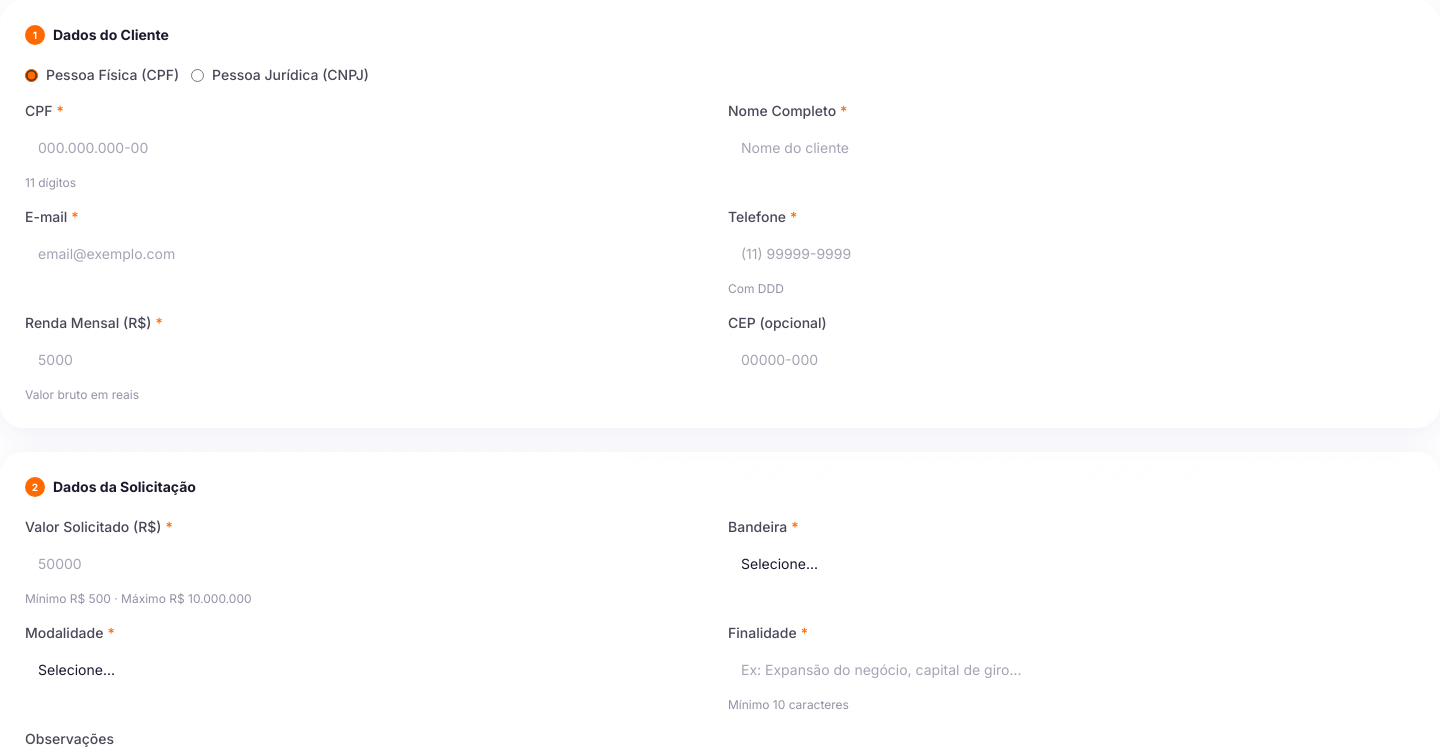
Test: CreditRequestForm › CNPJ masking › applies CNPJ mask as the user types
The image size is (1440, 756).
Click the radio button labelled "Pessoa Jurídica (CNPJ)".
click(198, 75)  # box [191, 68, 204, 82]
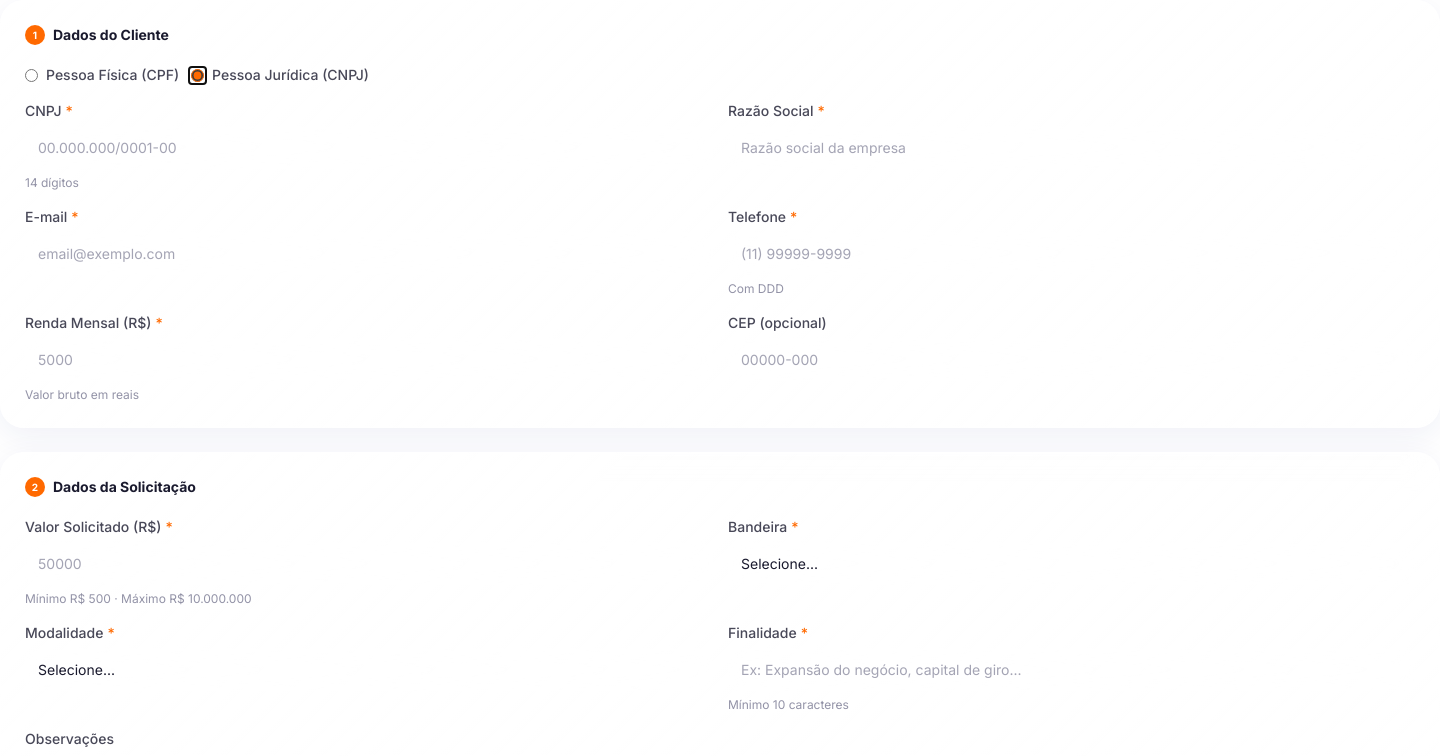
Type "11222333000181" into the field with placeholder "00.000.000/0001-00".
click(368, 148); type("11222333000181")  # box [25, 127, 712, 169]
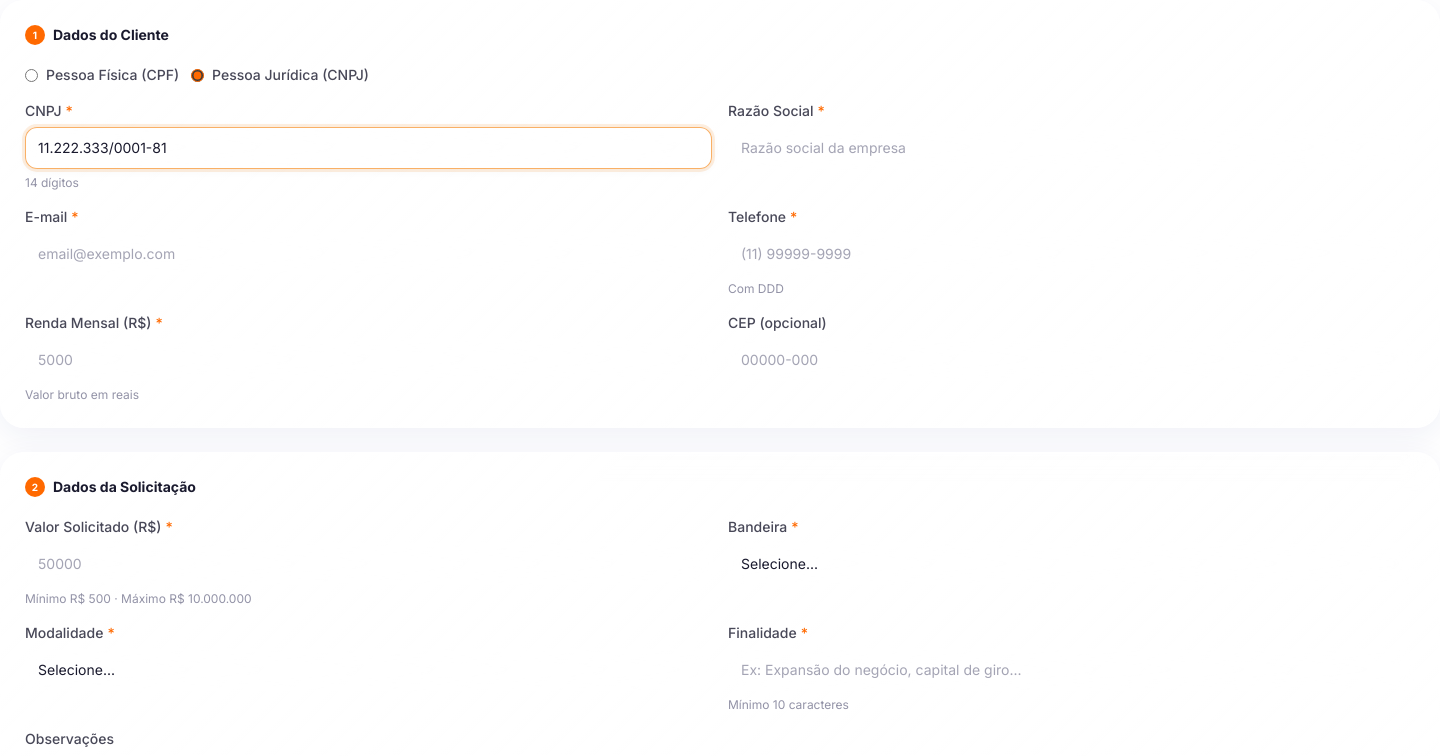
Expected: the field with placeholder "00.000.000/0001-00" holds "11.222.333/0001-81", [25, 127, 712, 169]
